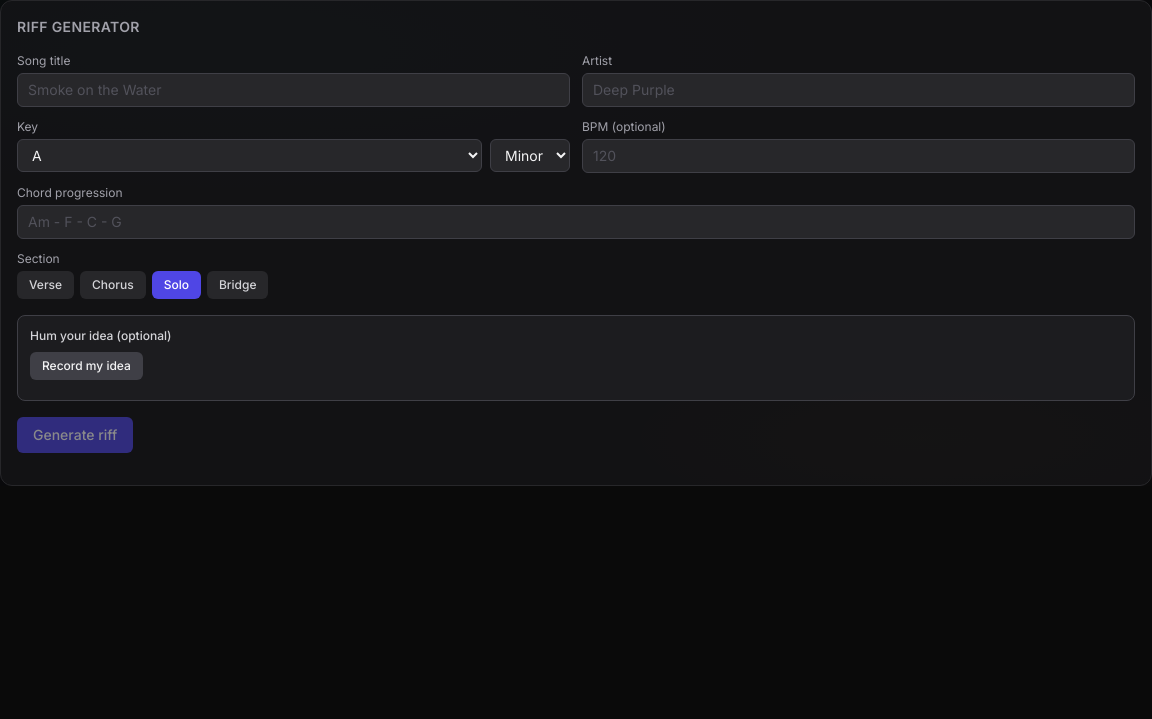
Test: RiffGenerator › saves the riff to history and shows the history count
In the field with placeholder "Smoke on the Water": (294,90) [17,73,570,107], type "My Song"
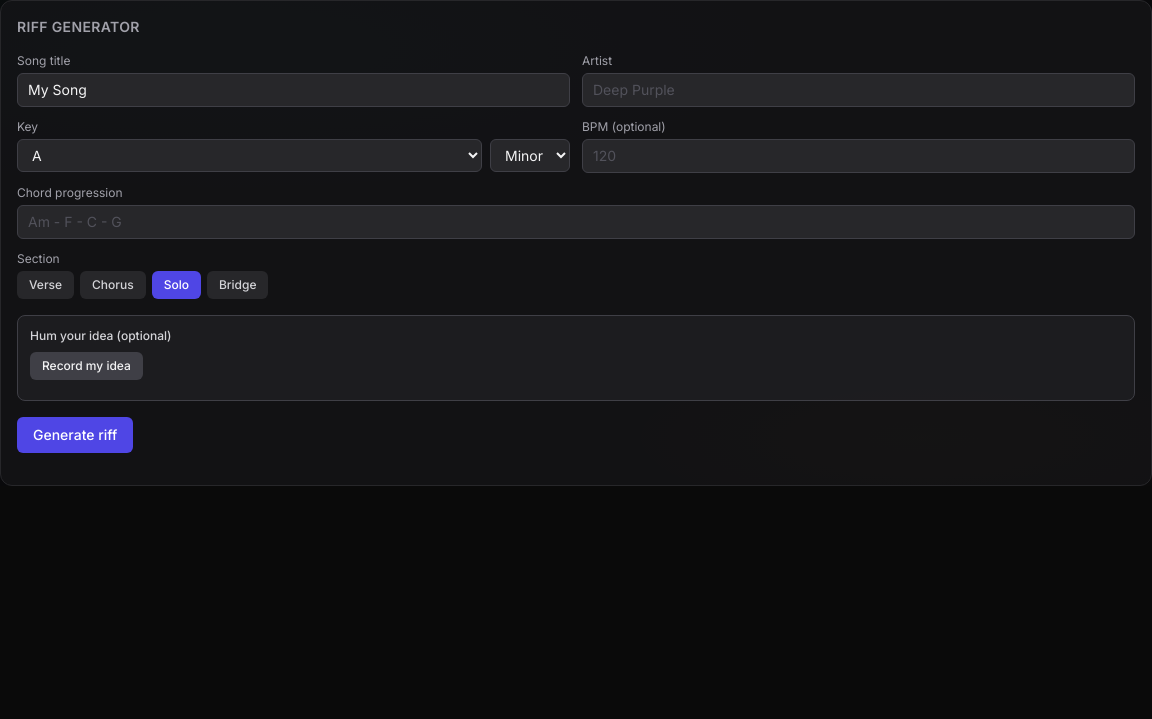
Click the button "Generate riff": (75,435) [17,417,133,453]
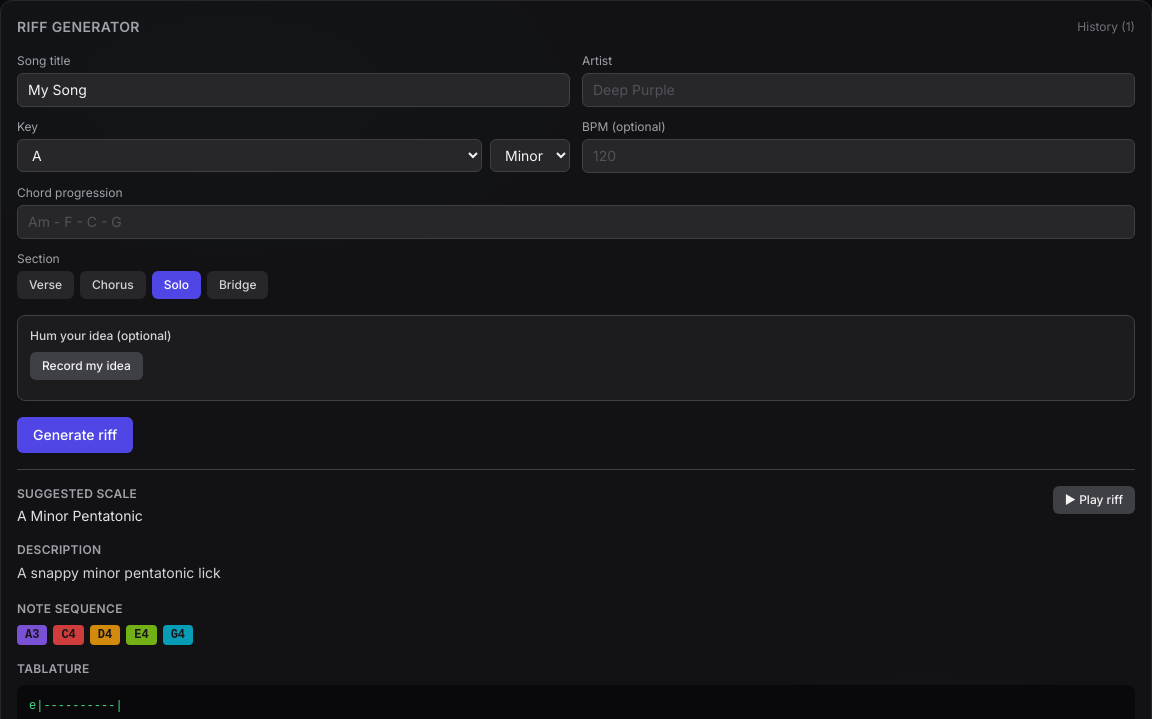
Check: the text "A snappy minor pentatonic lick" is shown, box [17,564,221,581]
Check: the button "History (1)" is shown, box [1077,19,1135,35]
